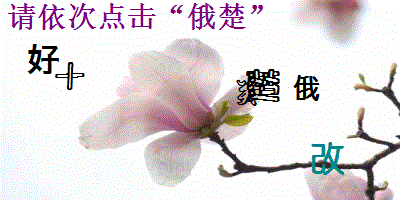result: (187, 1, 249, 31)
text: (309, 139, 346, 177), (244, 67, 281, 103), (26, 41, 60, 78), (55, 61, 86, 91), (292, 74, 321, 102)
